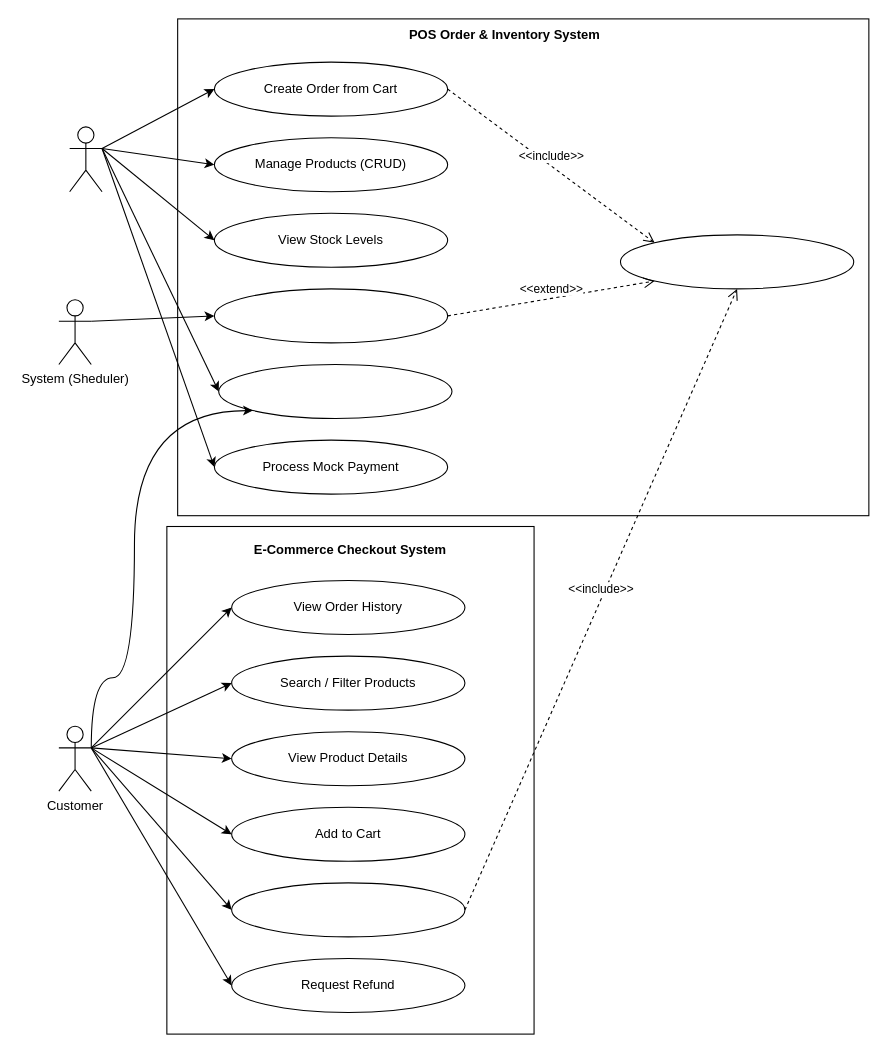
Some shapes in this 888 by 1053 pixel diagram are drawn without their labels. The shapes that lost their labels are listed below. From the top down, each one's centre as x and y in pixels, then its label:
At [85,159]: "Cashier/ POS Operator".
At [736,261]: "Reserve Stock".
At [330,315]: "Expire Reservation".
At [335,390]: "Cancel Order".
At [348,909]: "Checkout".
